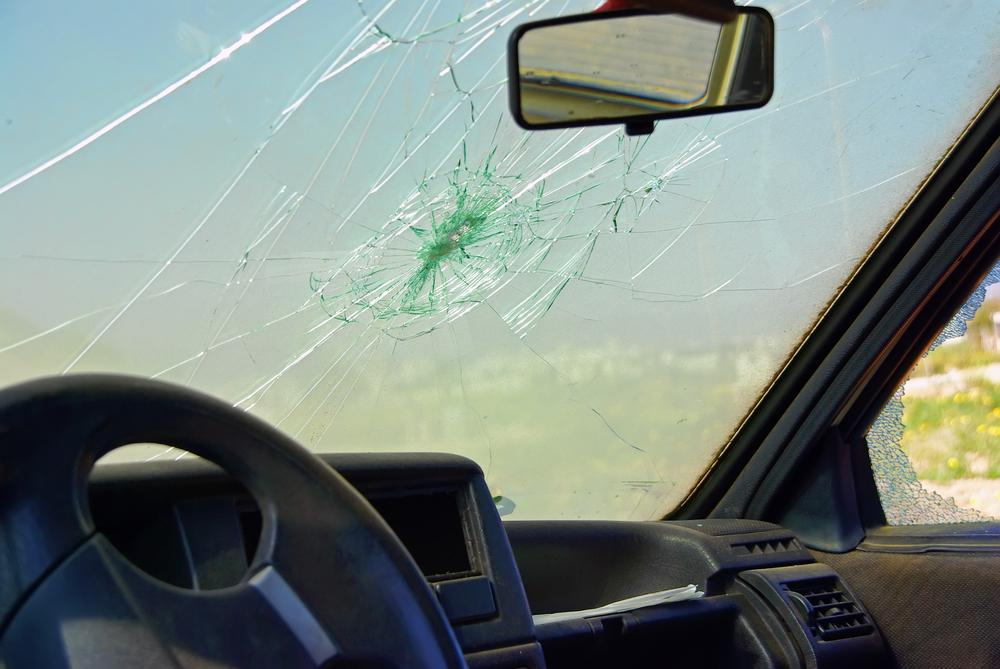glass shatter: (0, 0, 1000, 520), (867, 259, 1000, 524)
